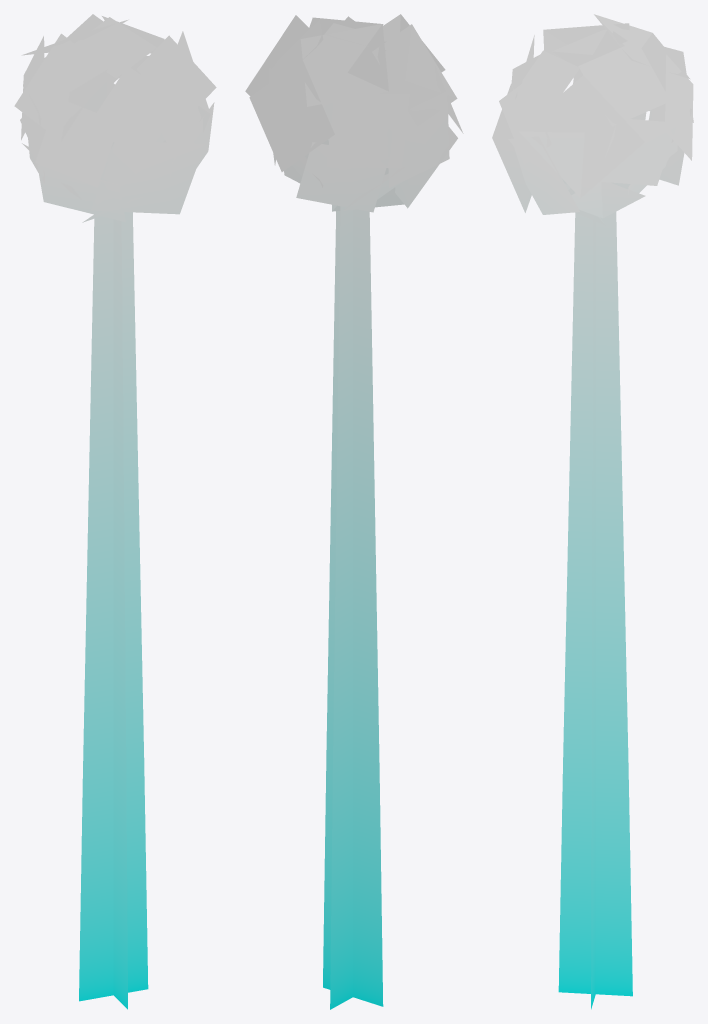
Rendered from Flower_B1_0.8m_01.fbx.
3 renders of one model, left to right at view 1: azimuth 30°, elevation 25°; view 2: azimuth 150°, elevation 25°; view 3: azimuth 270°, elevation 25°, orthographic.
Parts seen in each view (by area): view 1: Flower_B1_0.8m_01_LOD0; view 2: Flower_B1_0.8m_01_LOD0; view 3: Flower_B1_0.8m_01_LOD0.
Part boxes in pixels (x1=…): Flower_B1_0.8m_01_LOD0: x1=14, y1=14, x2=216, y2=1009; Flower_B1_0.8m_01_LOD0: x1=245, y1=14, x2=463, y2=1009; Flower_B1_0.8m_01_LOD0: x1=492, y1=14, x2=693, y2=1009.
Size of what is drawn, in the model's own units: 0.1596 by 0.8172 by 0.1547.
